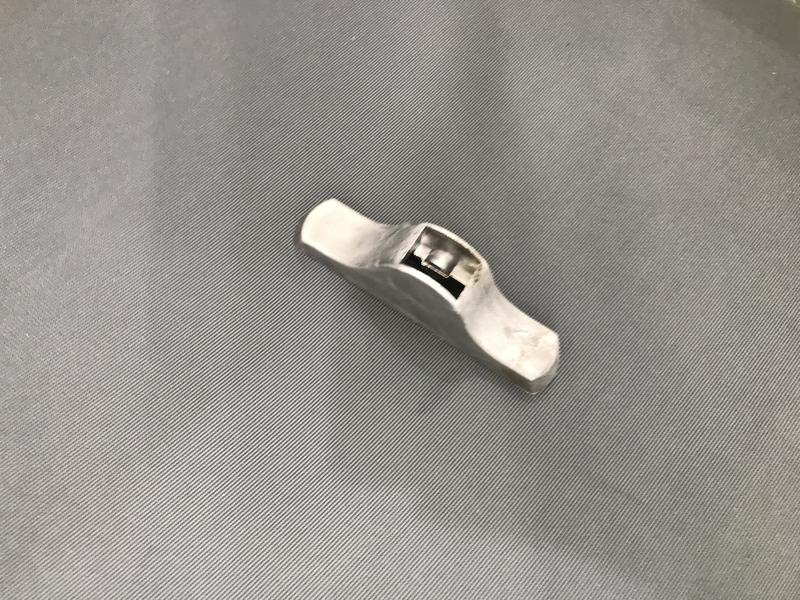zapchast: (276, 179, 584, 425)
